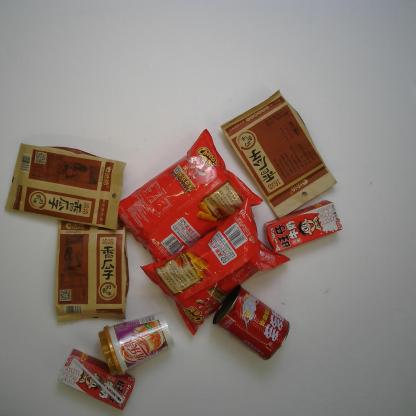Canned Food: (212, 284, 290, 360)
Dried Food: (219, 90, 338, 219), (4, 142, 127, 230), (54, 211, 130, 323)
Instant Drink: (98, 311, 175, 377)
Milk: (57, 348, 134, 411), (263, 200, 344, 255)
Puffed Food: (139, 195, 291, 337), (115, 128, 264, 266)
